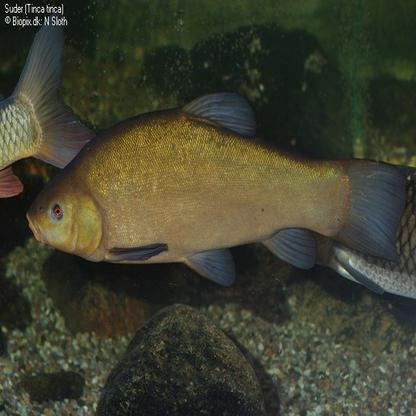fish: (22, 85, 410, 292)
